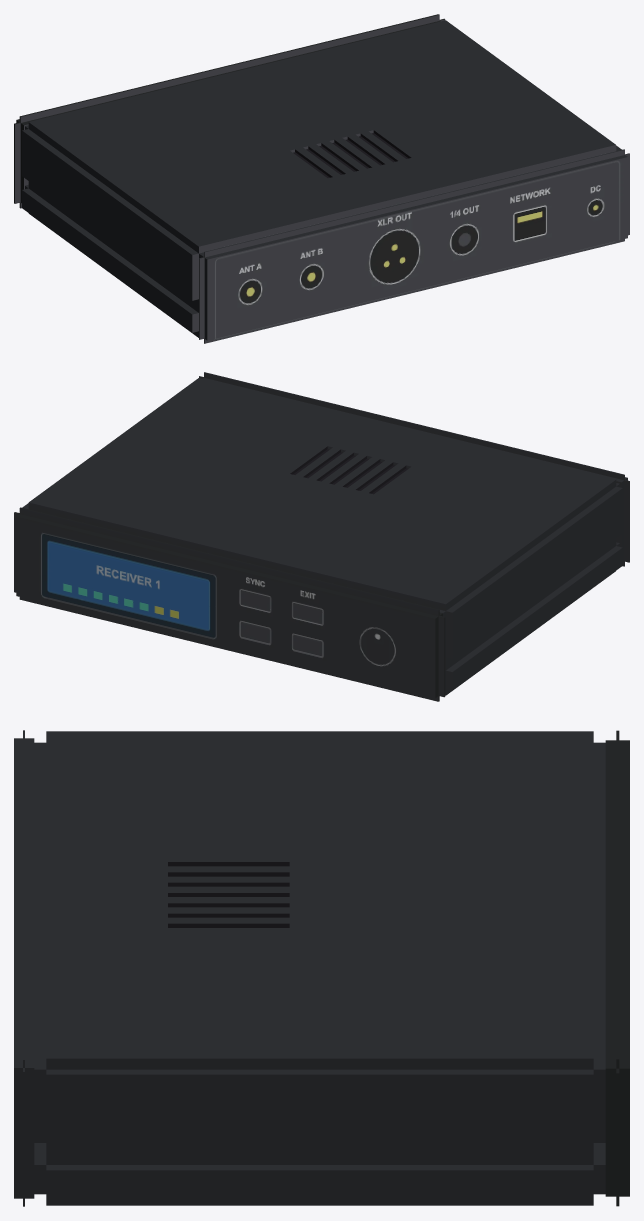
File: shure-slx-d.glb
The picture shows the model from 3 angles, top to bottom: view 1: azimuth 30°, elevation 25°; view 2: azimuth 150°, elevation 25°; view 3: azimuth 270°, elevation 25°; orthographic projection. The views are drawn at different scales.
Parts seen in each view (by area): view 1: shure-slx-d-body; view 2: shure-slx-d-body; view 3: shure-slx-d-body.
Part boxes in pixels (box(x1,y1,x2,y2)): shure-slx-d-body: box(14, 14, 629, 343); shure-slx-d-body: box(14, 372, 629, 701); shure-slx-d-body: box(14, 730, 629, 1206).
Bounding box in the file's own units: 0.197 × 0.042 × 0.152.
Materials: 1 (1 with a texture image).
